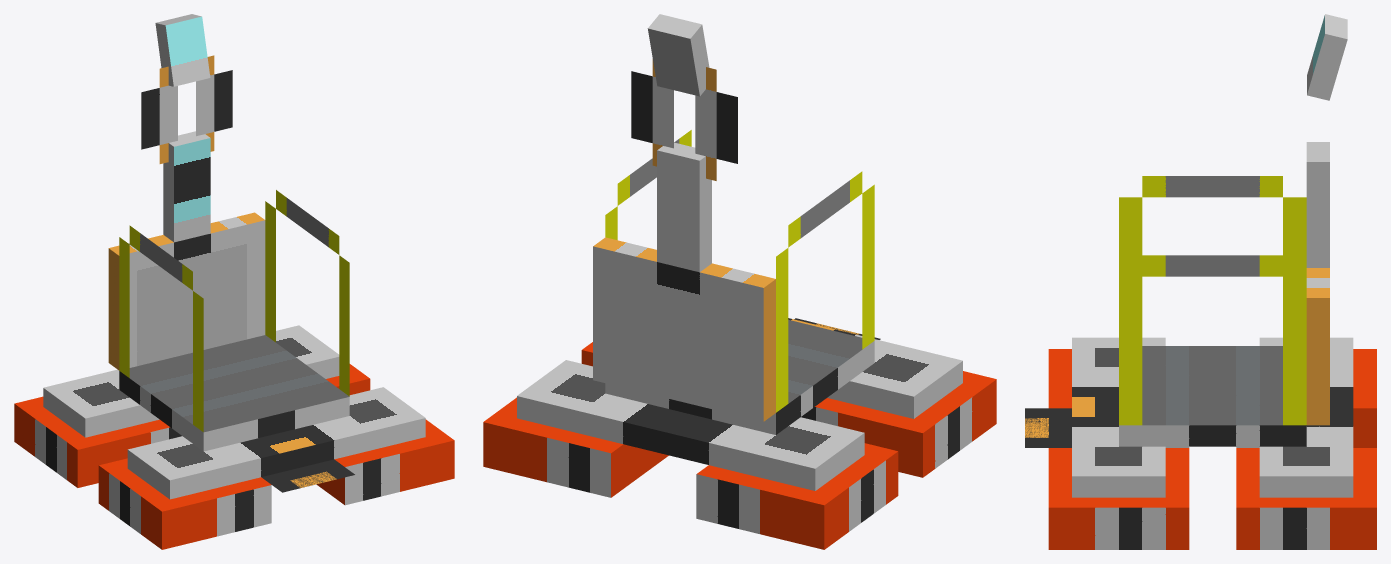
The model's file is constructor.obj.
3 renders of one model, left to right at view 1: azimuth 30°, elevation 25°; view 2: azimuth 150°, elevation 25°; view 3: azimuth 270°, elevation 25°, orthographic. The views are drawn at different scales.
Parts seen in each view (by area): view 1: lid, platform, frontjoin, frontleft, backjoin, backleft, frontright, arm, claws, railright, railleft, console (+2 smaller); view 2: lid, backjoin, backleft, backright, frontleft, platform, frontjoin, arm, claws, railleft, console, railright; view 3: platform, railright, frontjoin, frontright, backright, backjoin, railleft, lid, arm, backleft, console, step (+1 smaller).
Boxes of the visible parts, <box> form: lid: <box>108,212,265,370</box>; platform: <box>119,335,349,451</box>; frontjoin: <box>127,387,425,499</box>; frontleft: <box>98,458,271,549</box>; backjoin: <box>43,325,339,437</box>; backleft: <box>14,396,181,487</box>; frontright: <box>316,419,454,505</box>; arm: <box>163,131,210,260</box>; claws: <box>141,55,232,163</box>; railright: <box>265,190,349,396</box>; railleft: <box>119,225,203,431</box>; console: <box>155,14,210,86</box>; lid: <box>593,237,775,421</box>; backjoin: <box>517,360,864,490</box>; backleft: <box>696,443,898,549</box>; backright: <box>483,397,668,497</box>; frontleft: <box>801,371,996,477</box>; platform: <box>605,320,874,434</box>; frontjoin: <box>788,318,962,418</box>; arm: <box>657,142,711,287</box>; claws: <box>631,59,737,180</box>; railleft: <box>776,171,874,412</box>; console: <box>647,14,709,96</box>; railright: <box>605,130,691,240</box>; platform: <box>1119,346,1306,446</box>; railright: <box>1119,255,1306,425</box>; frontjoin: <box>1072,337,1165,497</box>; frontright: <box>1048,448,1189,549</box>; backright: <box>1236,448,1376,549</box>; backjoin: <box>1259,337,1353,497</box>; railleft: <box>1119,176,1306,276</box>; lid: <box>1306,268,1329,425</box>; arm: <box>1306,142,1329,267</box>; backleft: <box>1236,349,1376,447</box>; console: <box>1307,14,1347,100</box>; step: <box>1025,408,1071,447</box>.
Bounding box in the file's own units: 1 × 1.31 × 0.9375.
